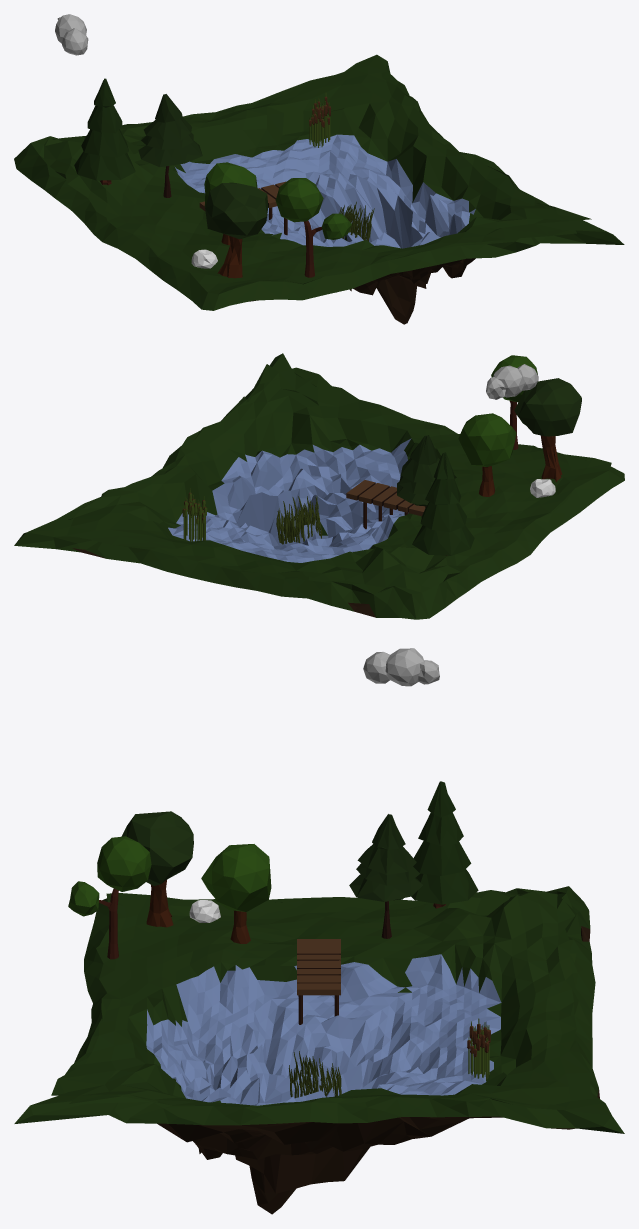
File: tree3_new.obj
3 renders of one model, top to bottom at view 1: azimuth 30°, elevation 25°; view 2: azimuth 150°, elevation 25°; view 3: azimuth 270°, elevation 25°, orthographic. The views are drawn at different scales.
Visible parts, largest first — view 1: Plane.003, Cylinder, Icosphere.003, Cylinder.004, Icosphere.002, Icosphere.001, Icosphere, Cylinder.006, Cylinder.005; view 2: Plane.003, Cylinder, Icosphere.003, Icosphere, Cylinder.004, Icosphere.001, Cube_Cube.001, Cylinder.006, Icosphere.002, Icosphere.004, Cylinder.002_Cylinder.003; view 3: Plane.003, Cylinder, Cylinder.004, Icosphere, Icosphere.003, Icosphere.002, Cube_Cube.001, Icosphere.001, Cylinder.006.
Boxes of the visible parts, x1=… form: Plane.003: x1=14, y1=54, x2=624, y2=324; Cylinder: x1=74, y1=78, x2=135, y2=180; Icosphere.003: x1=205, y1=182, x2=268, y2=239; Cylinder.004: x1=138, y1=94, x2=202, y2=167; Icosphere.002: x1=275, y1=178, x2=351, y2=239; Icosphere.001: x1=55, y1=14, x2=88, y2=55; Icosphere: x1=204, y1=162, x2=257, y2=206; Cylinder.006: x1=217, y1=236, x2=242, y2=278; Cylinder.005: x1=304, y1=220, x2=321, y2=277; Plane.003: x1=14, y1=353, x2=624, y2=619; Cylinder: x1=412, y1=451, x2=474, y2=555; Icosphere.003: x1=514, y1=378, x2=581, y2=436; Icosphere: x1=458, y1=413, x2=516, y2=466; Cylinder.004: x1=397, y1=435, x2=439, y2=506; Icosphere.001: x1=486, y1=364, x2=538, y2=399; Cube_Cube.001: x1=346, y1=480, x2=425, y2=516; Cylinder.006: x1=540, y1=435, x2=562, y2=482; Icosphere.002: x1=491, y1=355, x2=537, y2=402; Icosphere.004: x1=530, y1=479, x2=555, y2=497; Cylinder.002_Cylinder.003: x1=479, y1=466, x2=495, y2=496; Plane.003: x1=14, y1=886, x2=624, y2=1214; Cylinder: x1=411, y1=781, x2=478, y2=904; Cylinder.004: x1=349, y1=814, x2=422, y2=901; Icosphere: x1=201, y1=844, x2=271, y2=911; Icosphere.003: x1=121, y1=811, x2=193, y2=885; Icosphere.002: x1=68, y1=836, x2=151, y2=916; Cube_Cube.001: x1=297, y1=939, x2=340, y2=995; Icosphere.001: x1=363, y1=648, x2=439, y2=686; Cylinder.006: x1=146, y1=879, x2=173, y2=927.
Size of the model in its own units: 20.81 by 16.03 by 22.02.
